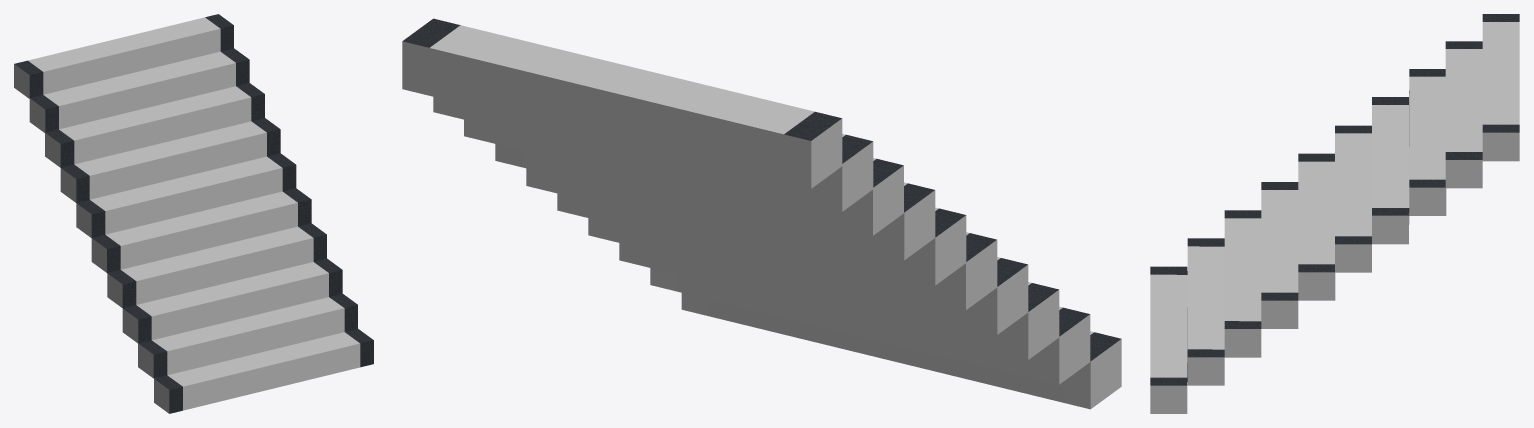
The model's file is Ladder2.fbx.
The picture shows the model from 3 angles, left to right: view 1: azimuth 30°, elevation 25°; view 2: azimuth 150°, elevation 25°; view 3: azimuth 270°, elevation 25°; orthographic projection. The views are drawn at different scales.
Visible parts, largest first — view 1: Cube.010; view 2: Cube.010; view 3: Cube.010.
Boxes of the visible parts, box(x1,y1,x2,y2) form: Cube.010: box(14, 14, 373, 413); Cube.010: box(402, 18, 1121, 409); Cube.010: box(1150, 14, 1519, 413).
Size of the model in its own units: 152 by 168 by 200.
